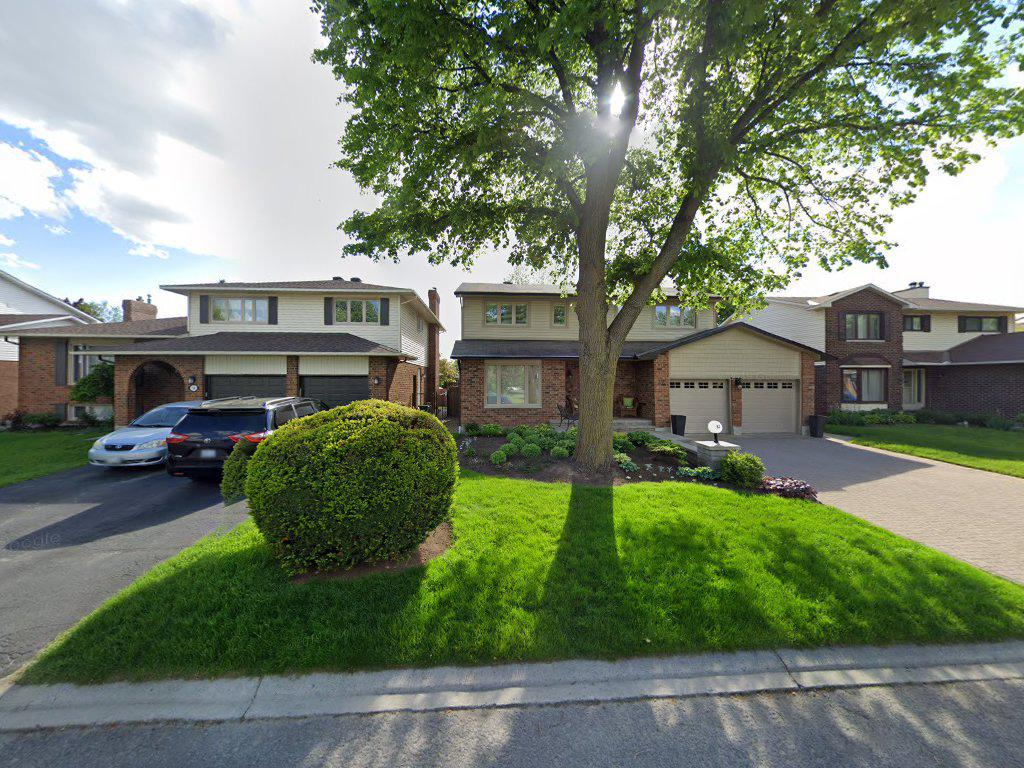trunk: (574, 192, 628, 494)
